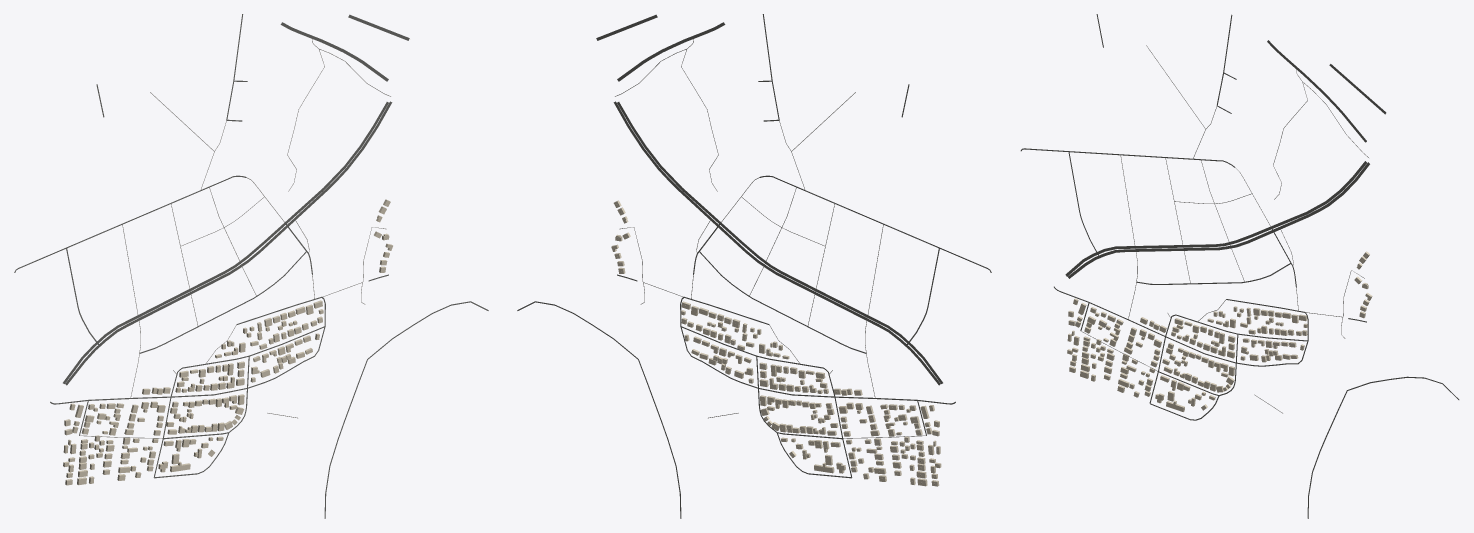
The model's file is historic-palestine-07_29_3486_3235.glb.
3 renders of one model, left to right at view 1: azimuth 30°, elevation 25°; view 2: azimuth 150°, elevation 25°; view 3: azimuth 330°, elevation 25°, orthographic. The views are drawn at different scales.
Visible parts, largest first — view 1: Road מאיר שמגר, Road מאיר שמגר.001; view 2: Road מאיר שמגר, Road מאיר שמגר.001; view 3: Road מאיר שמגר, Road מאיר שמגר.001.
Boxes of the visible parts, left/top/right/bottom form: Road מאיר שמגר: left=63, top=203, right=307, bottom=383; Road מאיר שמגר.001: left=65, top=205, right=309, bottom=385; Road מאיר שמגר: left=698, top=203, right=942, bottom=383; Road מאיר שמגר.001: left=696, top=205, right=940, bottom=385; Road מאיר שמגר: left=1065, top=218, right=1292, bottom=276; Road מאיר שמגר.001: left=1068, top=221, right=1293, bottom=278.
Size of the model in its own units: 1384 by 1463 by 8.7.
